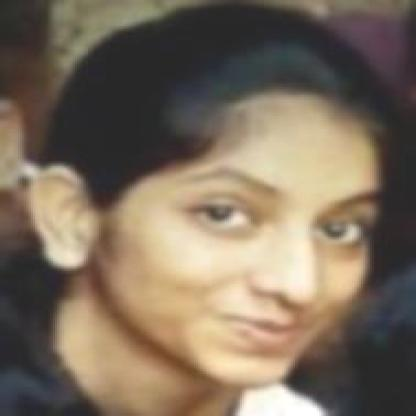without_mask: (161, 157, 381, 382)
